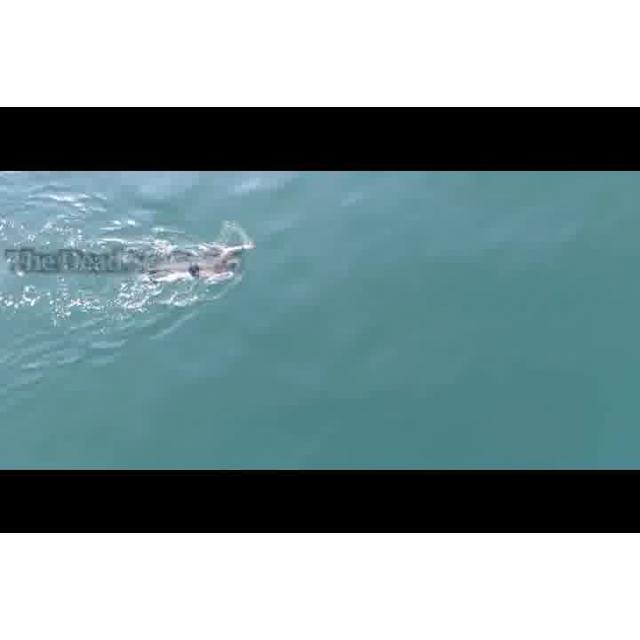human: (156, 239, 262, 288)
